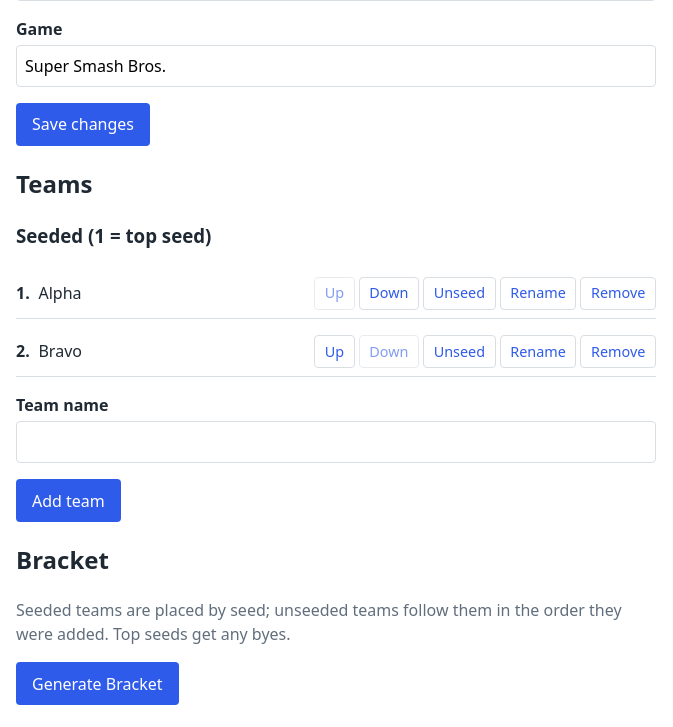
ManageTournamentPage bracket › reloads the team list as locked after generating the bracket
(page scrolled)
Click the button "Generate Bracket" at (97, 684), box [16,662,178,705]
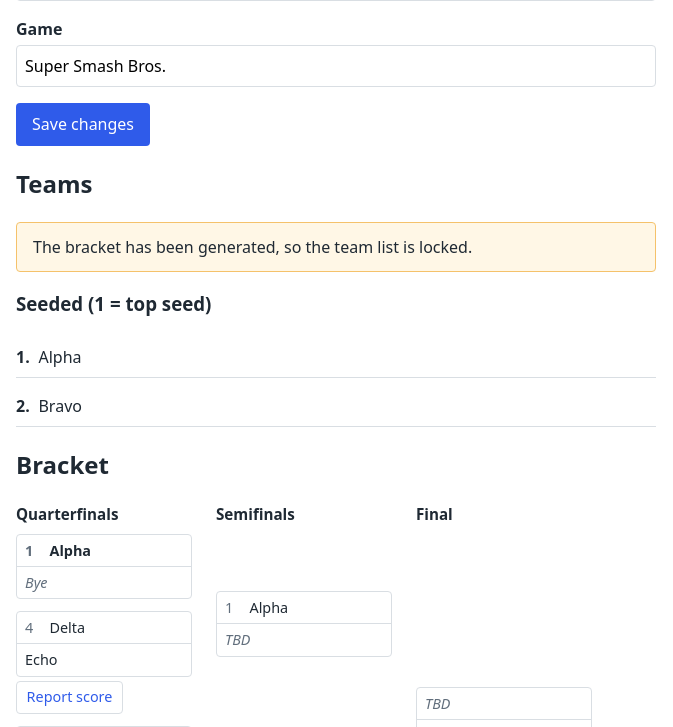
Expected: the text "The bracket has been generated, so the team list is locked." is shown, [16,222,656,272]
Expected: the button "Add team" is gone
Expected: the heading "Final" is shown, [416,504,453,524]
